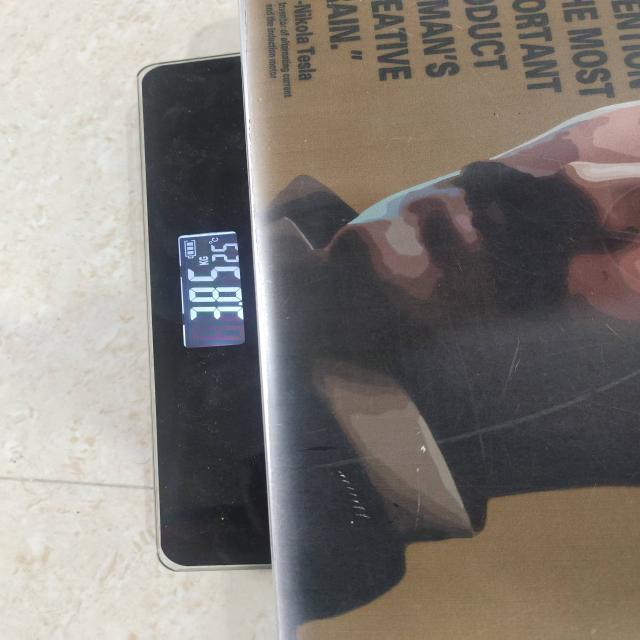ws: (136, 55, 272, 573)
